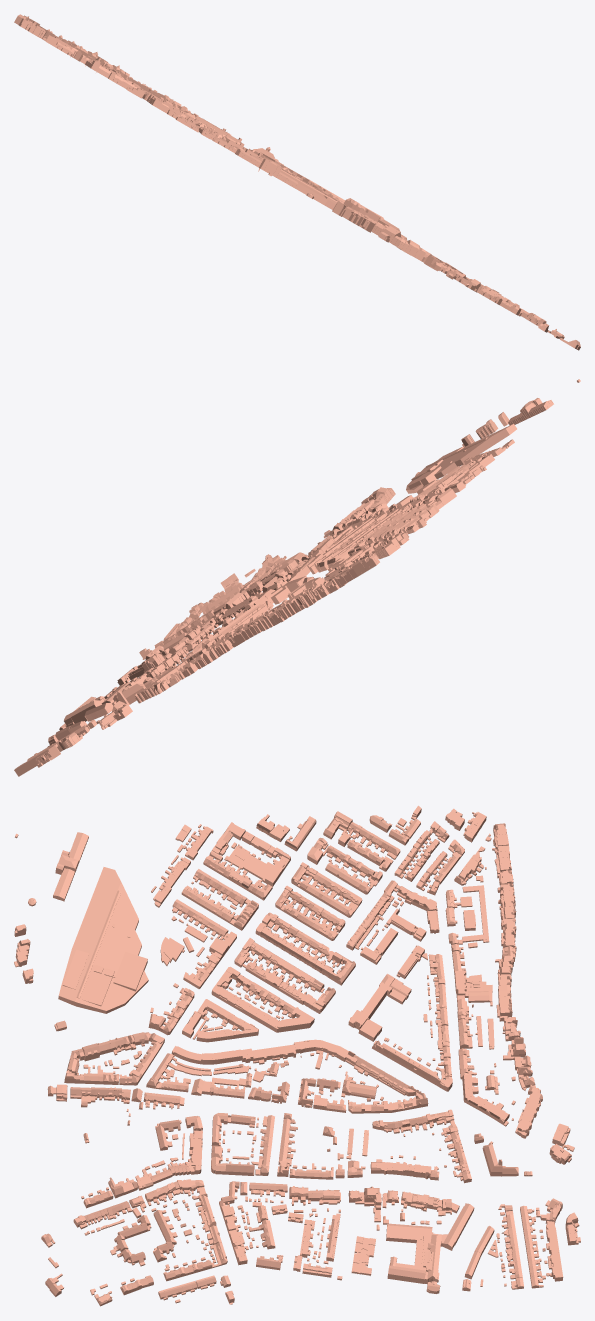
The picture shows the model from 3 angles, top to bottom: view 1: azimuth 30°, elevation 25°; view 2: azimuth 150°, elevation 25°; view 3: azimuth 270°, elevation 25°; orthographic projection. The views are drawn at different scales.
Bounding box in the file's own units: 520 × 386 × 638.
